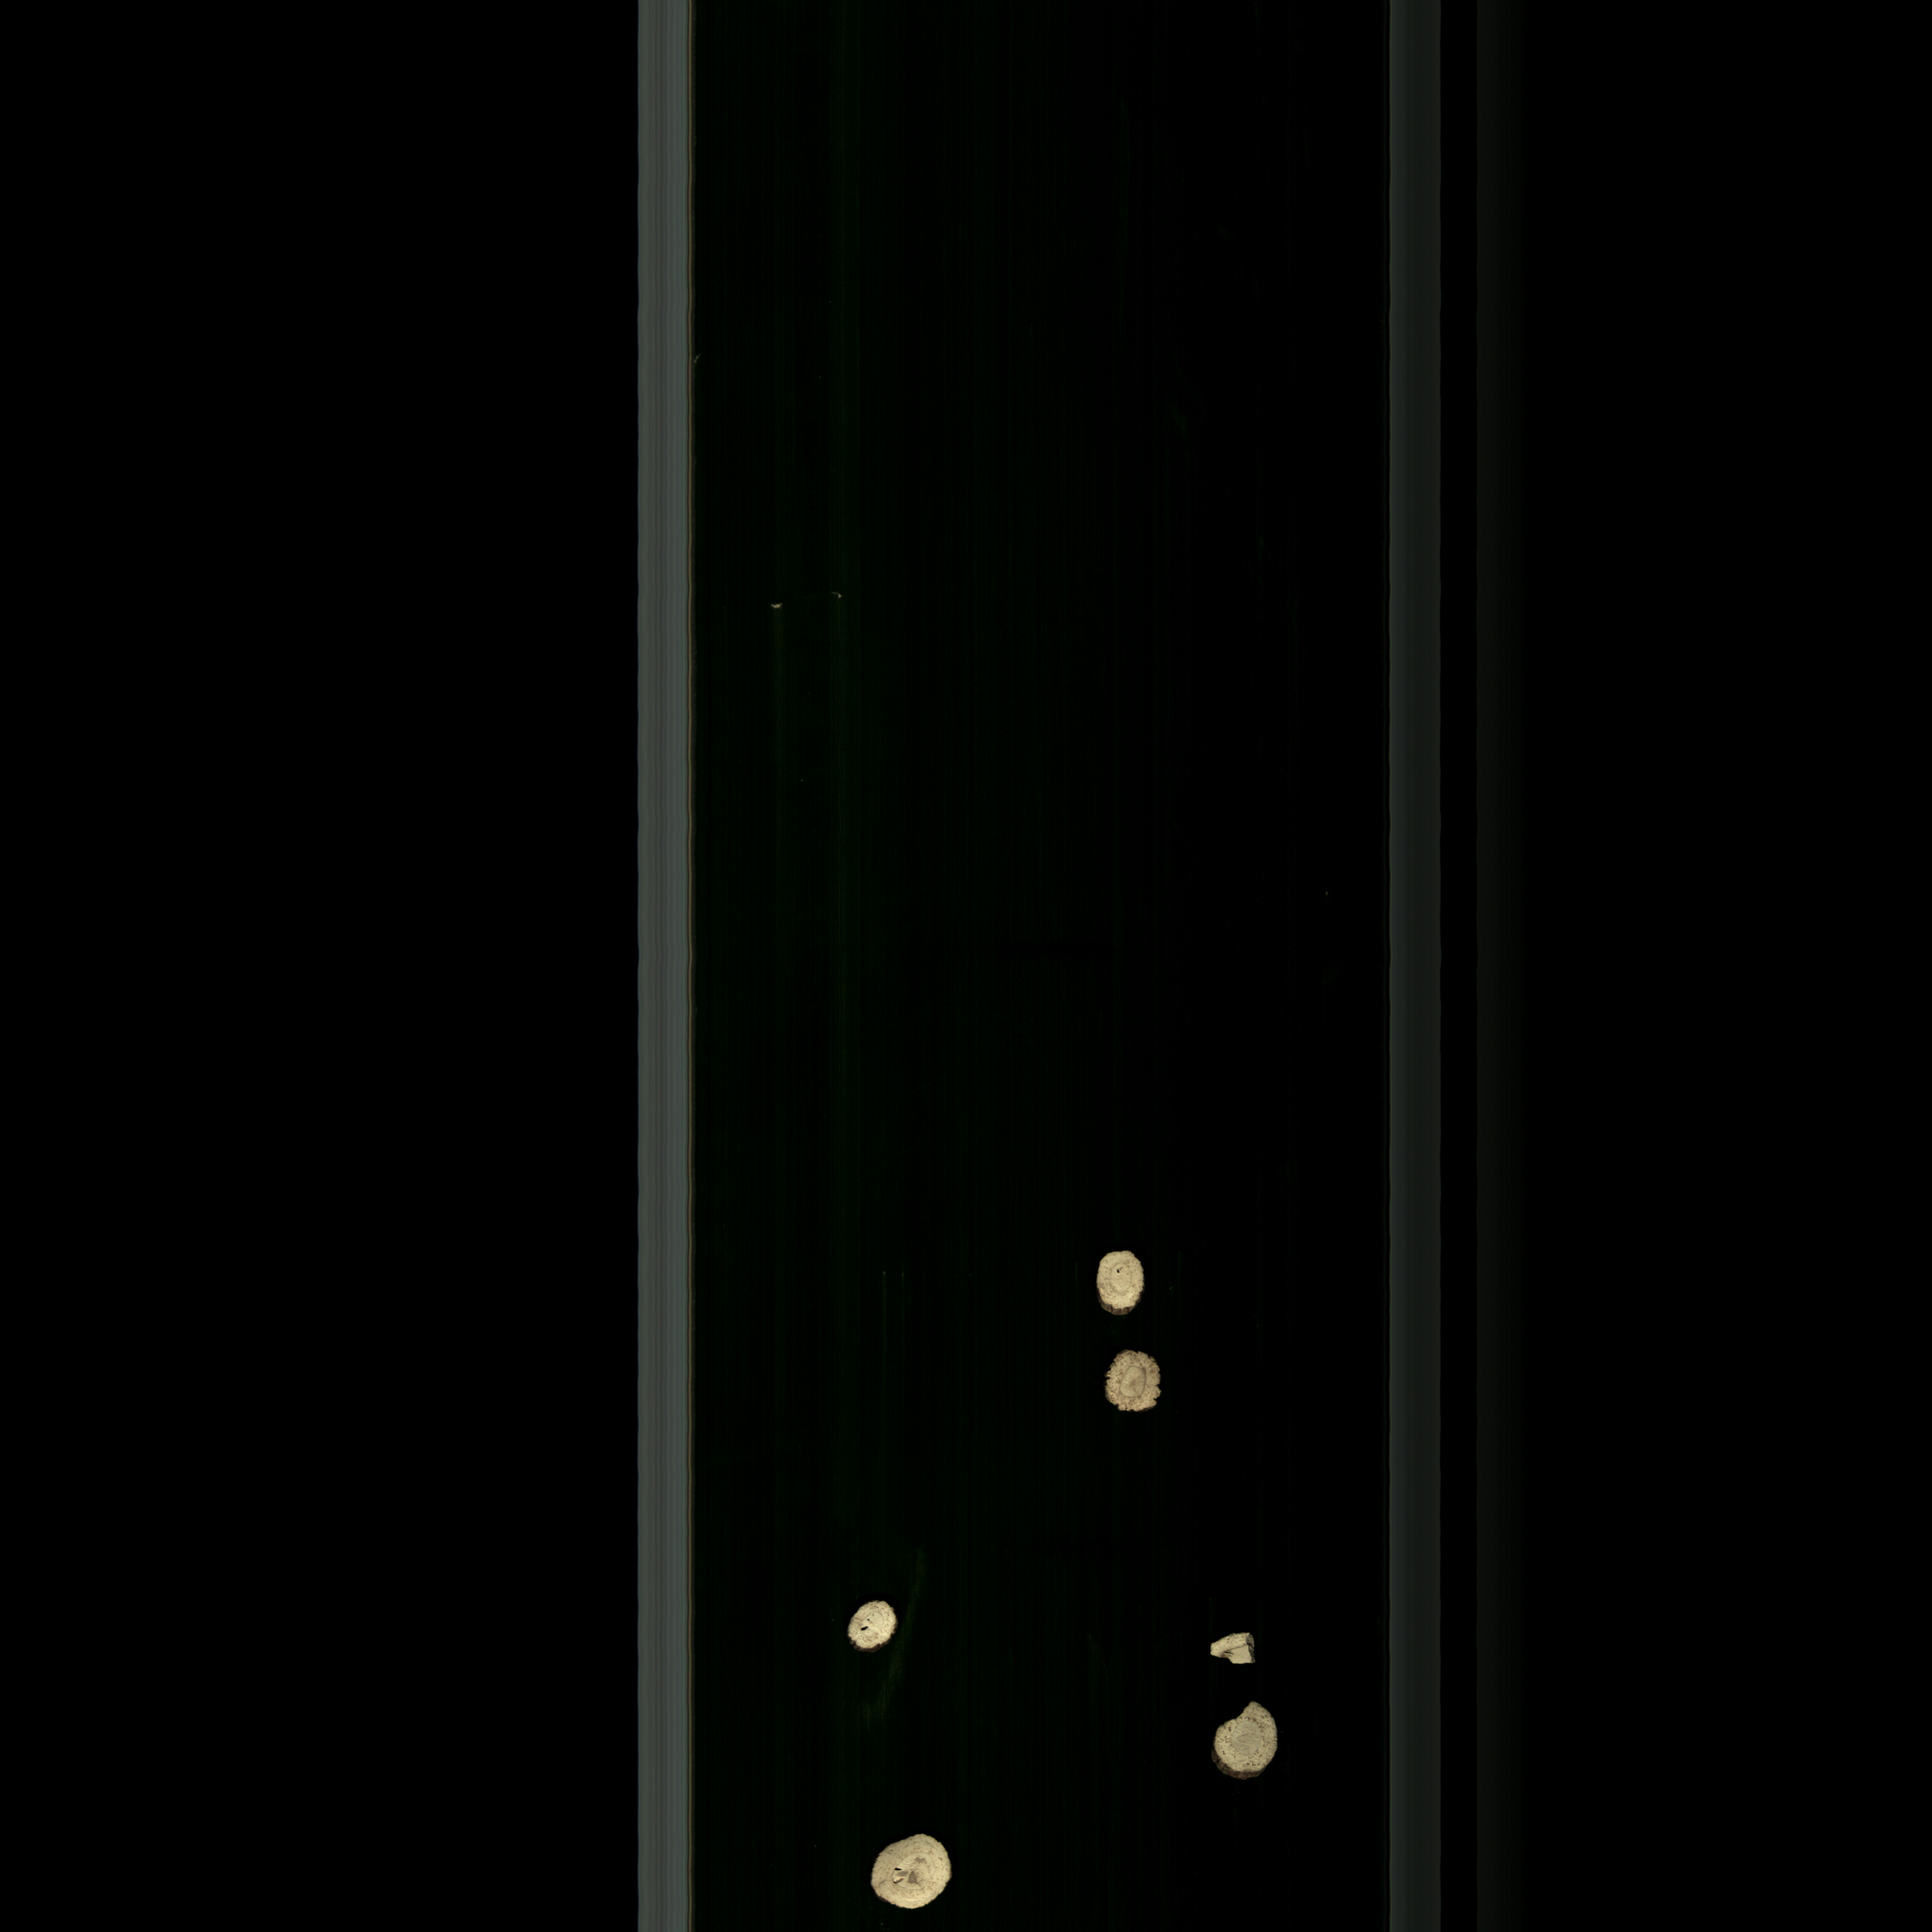debris: (1205, 1693, 1295, 1790)
dreg: (1205, 1629, 1261, 1672)
hole: (858, 1835, 961, 1909), (835, 1589, 906, 1658)
moldy: (1097, 1345, 1182, 1424)
